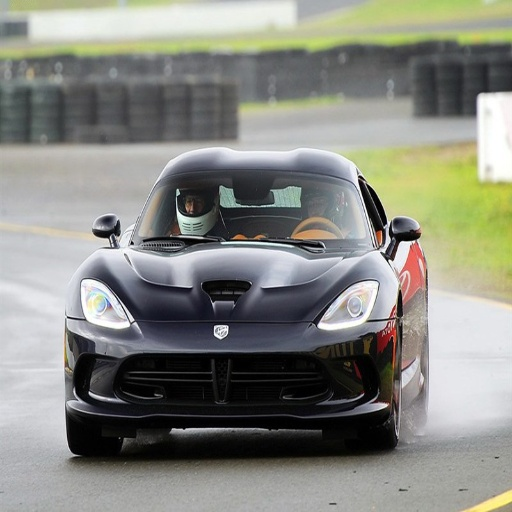front_bumper: (65, 282, 397, 434)
front_right_light: (71, 280, 131, 325)
hood: (108, 240, 383, 304)
